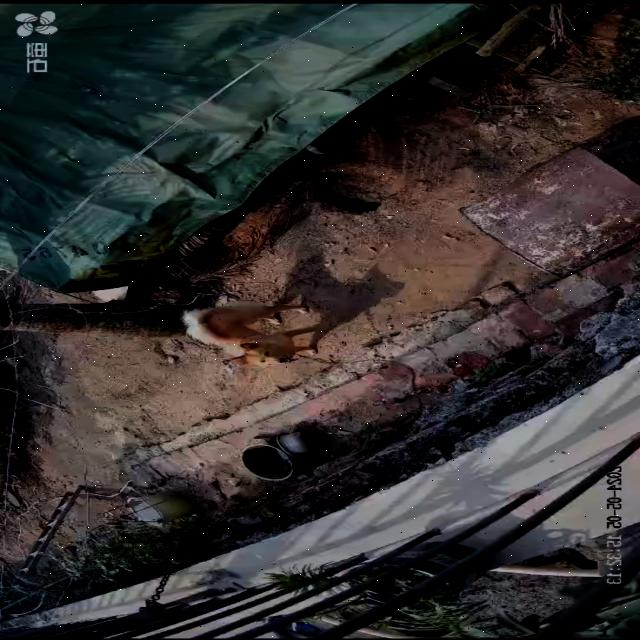dog: (181, 300, 325, 368)
